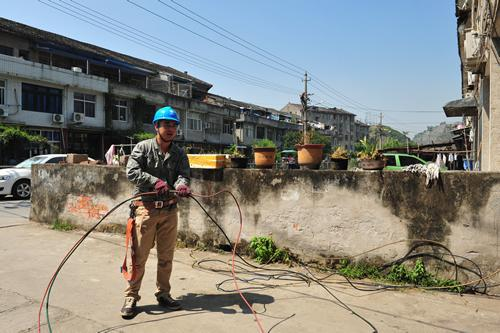helmet: (151, 103, 185, 145)
